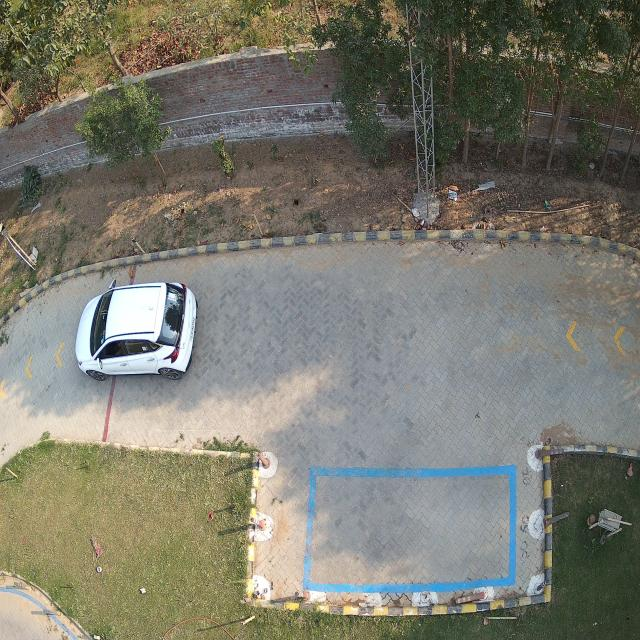car: (75, 282, 199, 382)
